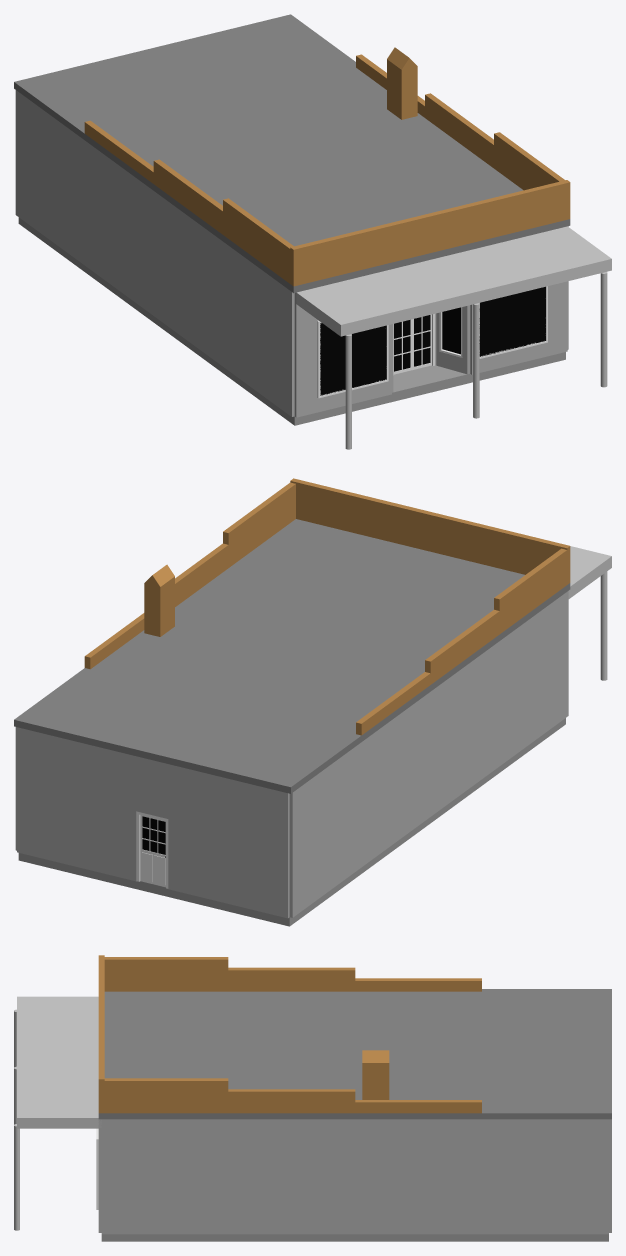
The model's file is building_phase_1b_iter_026.glb.
3 renders of one model, top to bottom at view 1: azimuth 30°, elevation 25°; view 2: azimuth 150°, elevation 25°; view 3: azimuth 270°, elevation 25°, orthographic. The views are drawn at different scales.
Visible parts, largest first — view 1: Roof, Wall_Left, Canopy_Roof, Parapet_Front, Wall_Front, Foundation, Front_Right_Window_Glass, Front_Left_Window_Glass, Parapet_Left_Level_1, Parapet_Right_Level_1, Parapet_Left_Level_2, Parapet_Right_Level_2 (+8 smaller); view 2: Roof, Wall_Left, Wall_Rear, Parapet_Front, Foundation, Parapet_Left_Level_1, Parapet_Right_Level_1, Parapet_Left_Level_2, Parapet_Right_Level_2, Chimney, Canopy_Roof, Parapet_Left_Level_3 (+2 smaller); view 3: Wall_Right, Roof, Canopy_Roof, Parapet_Right_Level_1, Parapet_Left_Level_1, Foundation, Parapet_Left_Level_2, Parapet_Right_Level_2, Parapet_Left_Level_3, Parapet_Right_Level_3, Parapet_Front, Chimney (+2 smaller).
Boxes of the visible parts, bbox=[...] form: Roof: bbox=[14, 14, 570, 293]; Wall_Left: bbox=[15, 90, 294, 416]; Canopy_Roof: bbox=[296, 226, 611, 336]; Parapet_Front: bbox=[290, 180, 570, 286]; Wall_Front: bbox=[294, 281, 567, 417]; Foundation: bbox=[18, 217, 565, 425]; Front_Right_Window_Glass: bbox=[479, 286, 545, 356]; Front_Left_Window_Glass: bbox=[320, 323, 386, 395]; Parapet_Left_Level_1: bbox=[223, 198, 293, 283]; Parapet_Right_Level_1: bbox=[494, 132, 564, 190]; Parapet_Left_Level_2: bbox=[153, 159, 222, 234]; Parapet_Right_Level_2: bbox=[425, 93, 493, 168]; Roof: bbox=[14, 519, 570, 793]; Wall_Left: bbox=[289, 591, 568, 917]; Wall_Rear: bbox=[17, 727, 289, 918]; Parapet_Front: bbox=[290, 478, 570, 584]; Foundation: bbox=[18, 718, 565, 926]; Parapet_Left_Level_1: bbox=[494, 548, 567, 633]; Parapet_Right_Level_1: bbox=[223, 482, 295, 567]; Parapet_Left_Level_2: bbox=[425, 609, 499, 684]; Parapet_Right_Level_2: bbox=[175, 543, 228, 606]; Chimney: bbox=[144, 576, 174, 636]; Canopy_Roof: bbox=[568, 546, 611, 598]; Parapet_Left_Level_3: bbox=[356, 672, 430, 735]; Wall_Right: bbox=[101, 1119, 608, 1234]; Roof: bbox=[98, 989, 611, 1119]; Canopy_Roof: bbox=[17, 996, 101, 1128]; Parapet_Right_Level_1: bbox=[101, 1078, 228, 1113]; Parapet_Left_Level_1: bbox=[104, 957, 228, 991]; Foundation: bbox=[101, 1234, 608, 1241]; Parapet_Left_Level_2: bbox=[228, 967, 355, 991]; Parapet_Right_Level_2: bbox=[228, 1089, 355, 1113]; Parapet_Left_Level_3: bbox=[355, 978, 481, 991]; Parapet_Right_Level_3: bbox=[355, 1100, 481, 1113]; Parapet_Front: bbox=[98, 955, 104, 1113]; Chimney: bbox=[362, 1063, 389, 1099].
Bounding box in the file's own units: 8.68 × 6.03 × 17.68.
